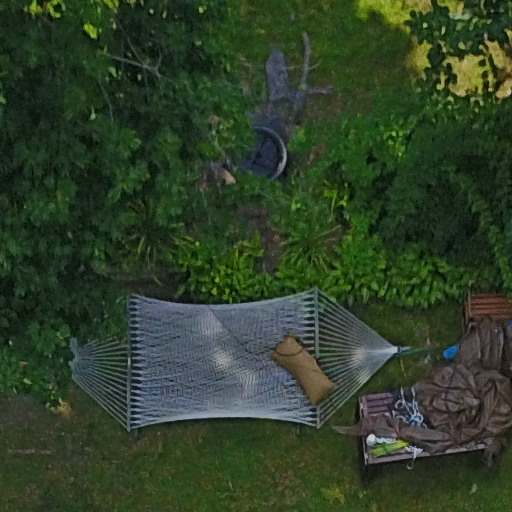tarp: (399, 348, 512, 463)
